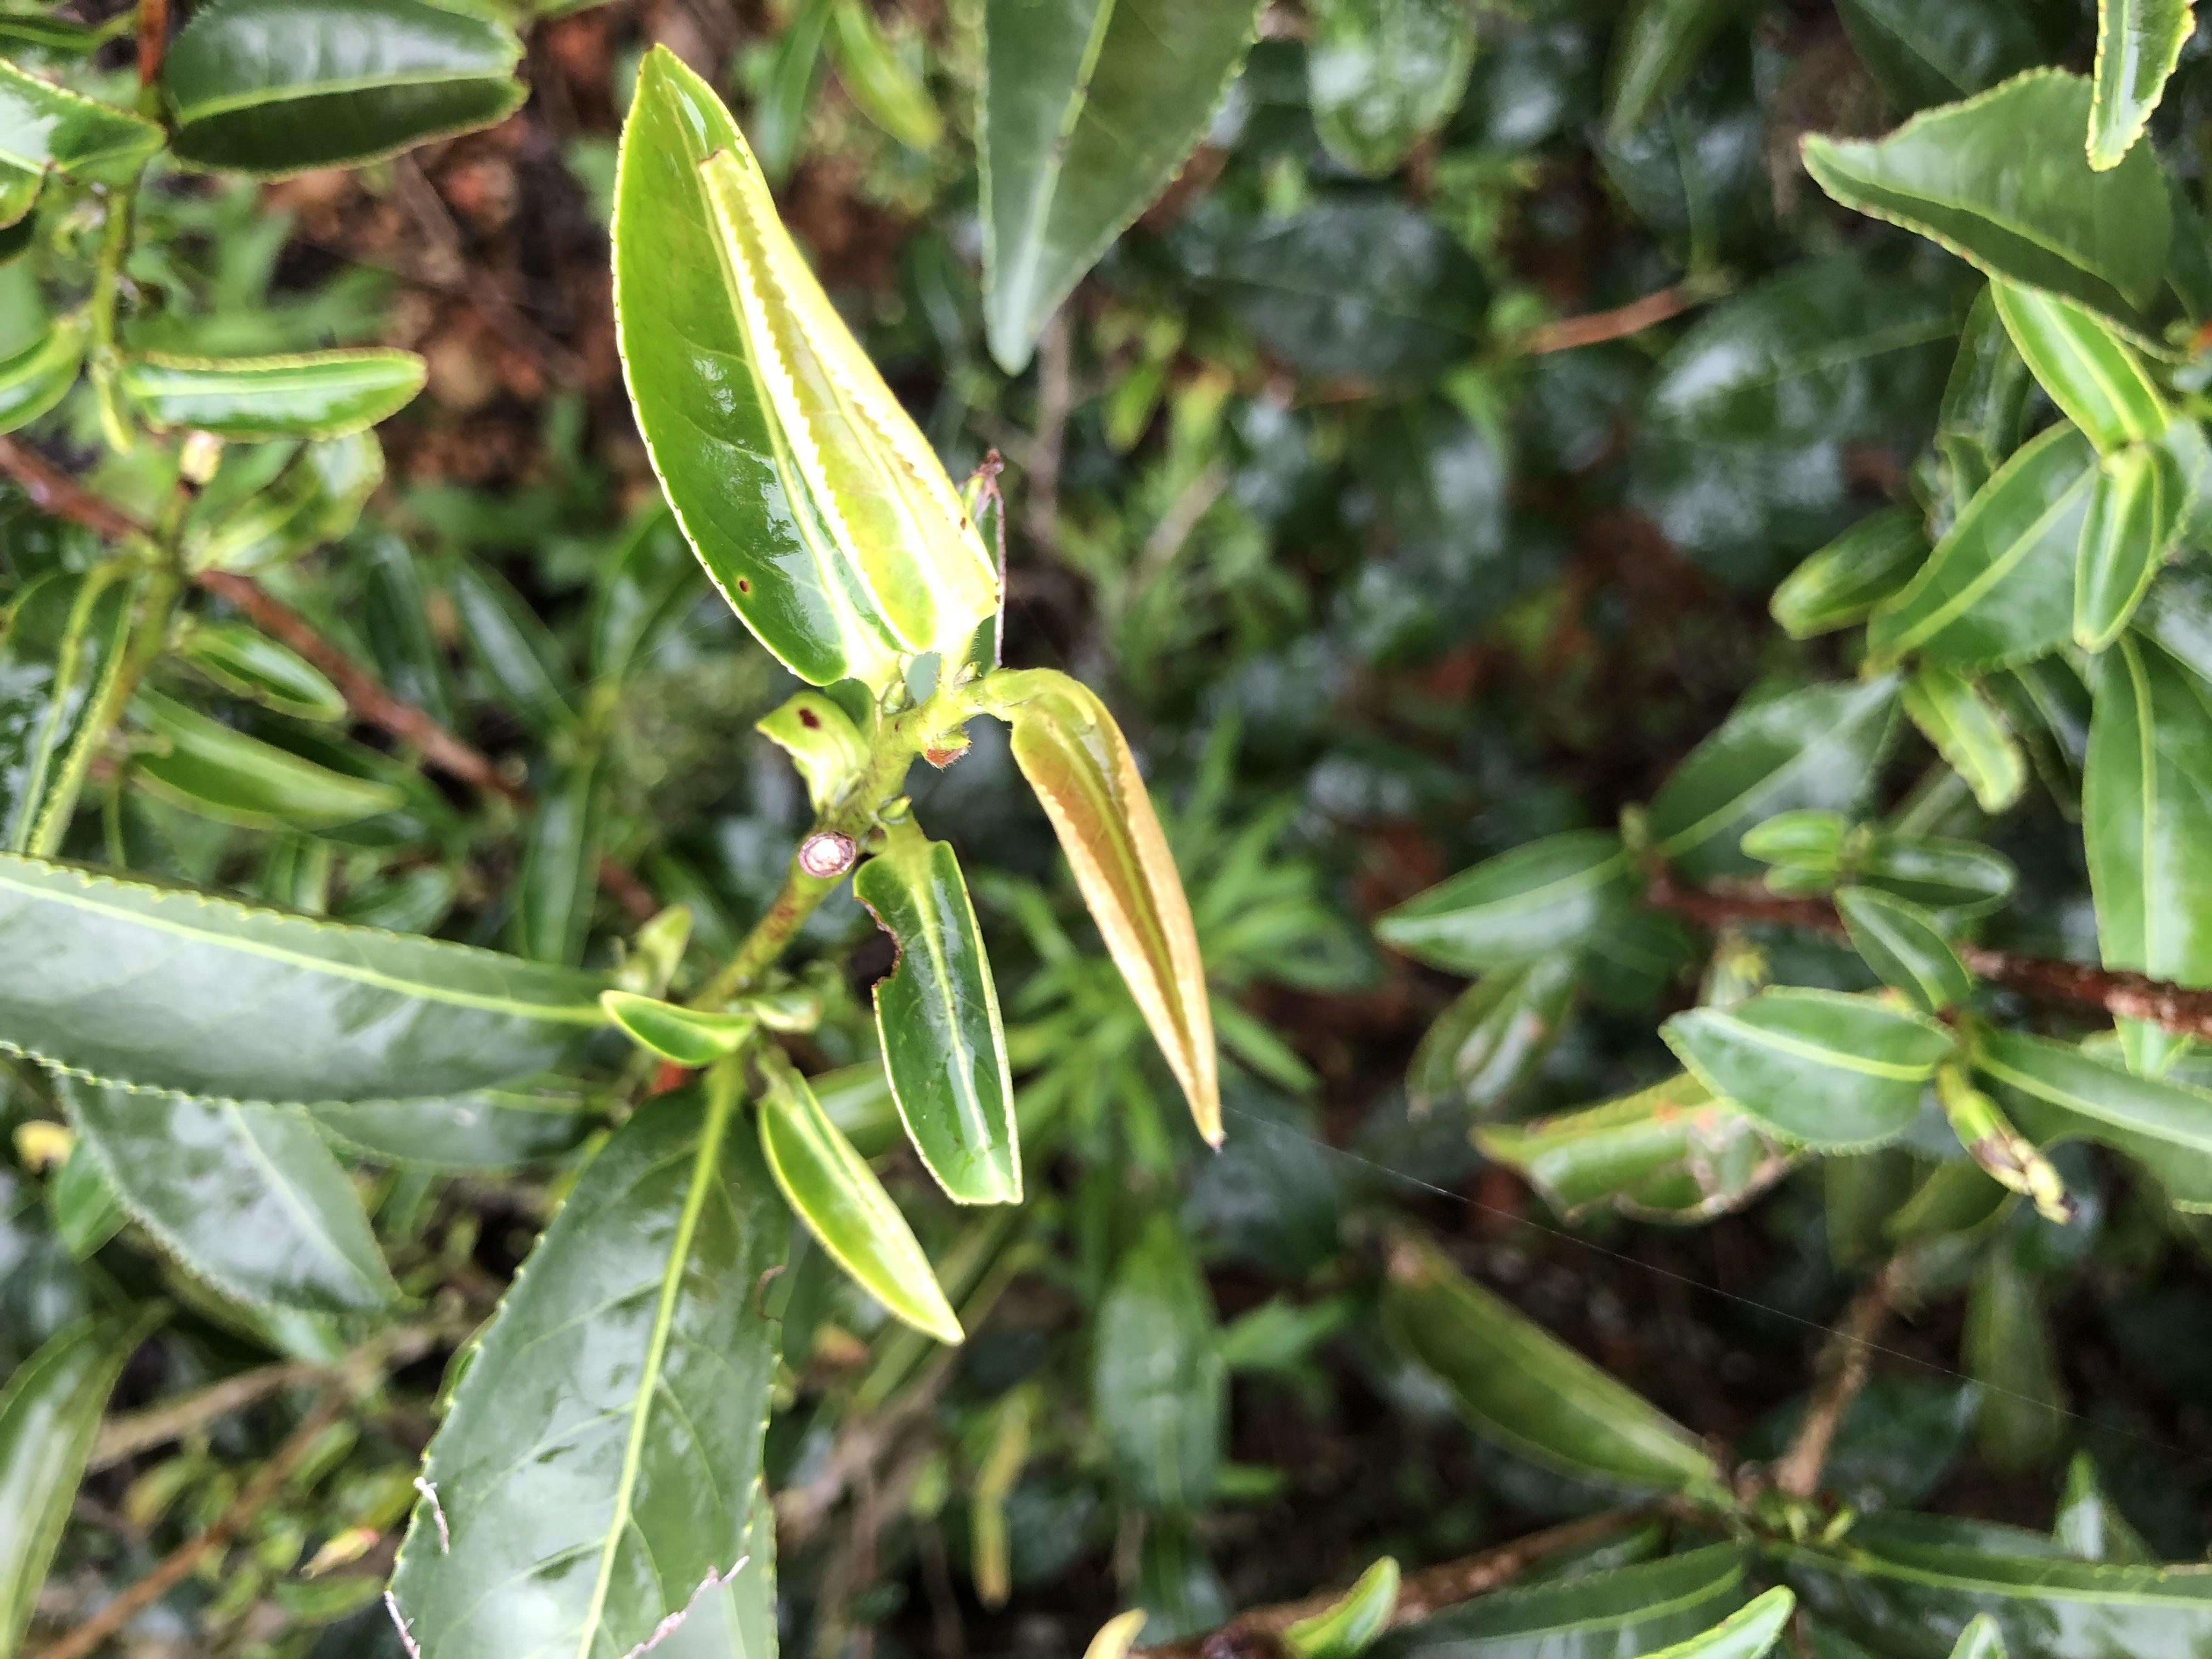formosa: (601, 112, 1003, 666), (993, 666, 1238, 1134)
other: (773, 824, 852, 932)
thrips: (603, 82, 998, 687)
